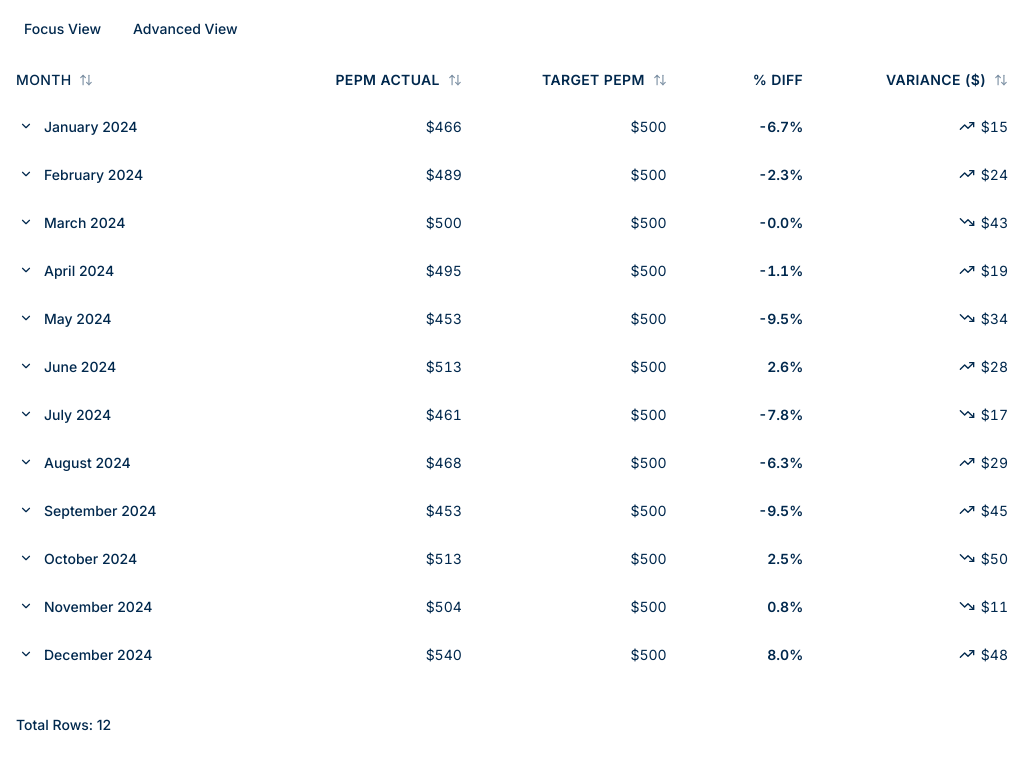
Test: ReportingGrid › Row Expansion › collapses expanded rows
Click the button named "expand row" next to "January 2024".
click(26, 126)  # box [16, 116, 36, 136]
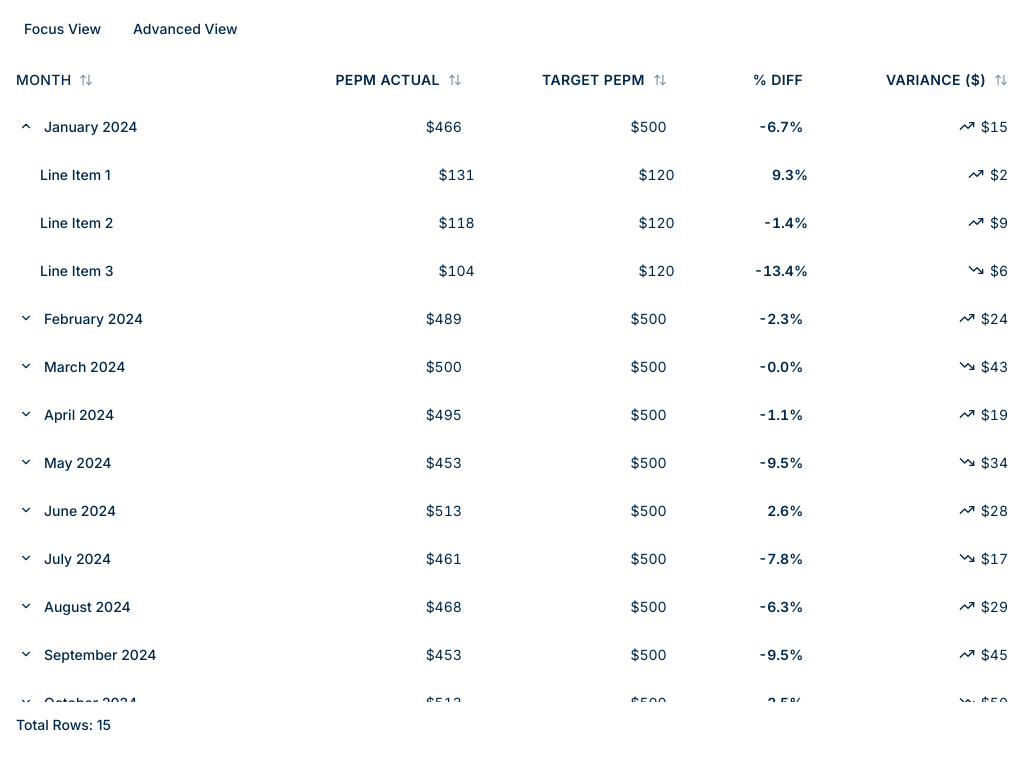
Click the button named "collapse row".
click(26, 126)  # box [16, 116, 36, 136]
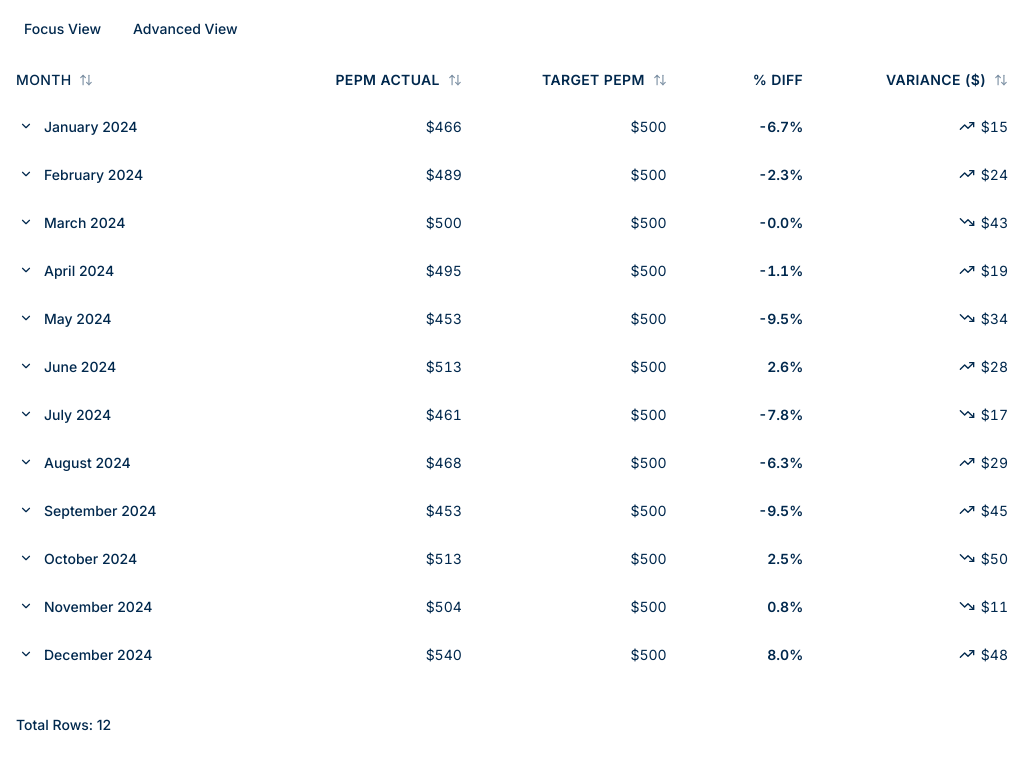
Expected: the text "Line Item 1" is gone
